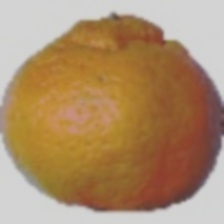tangerine: (43, 10, 195, 194)
